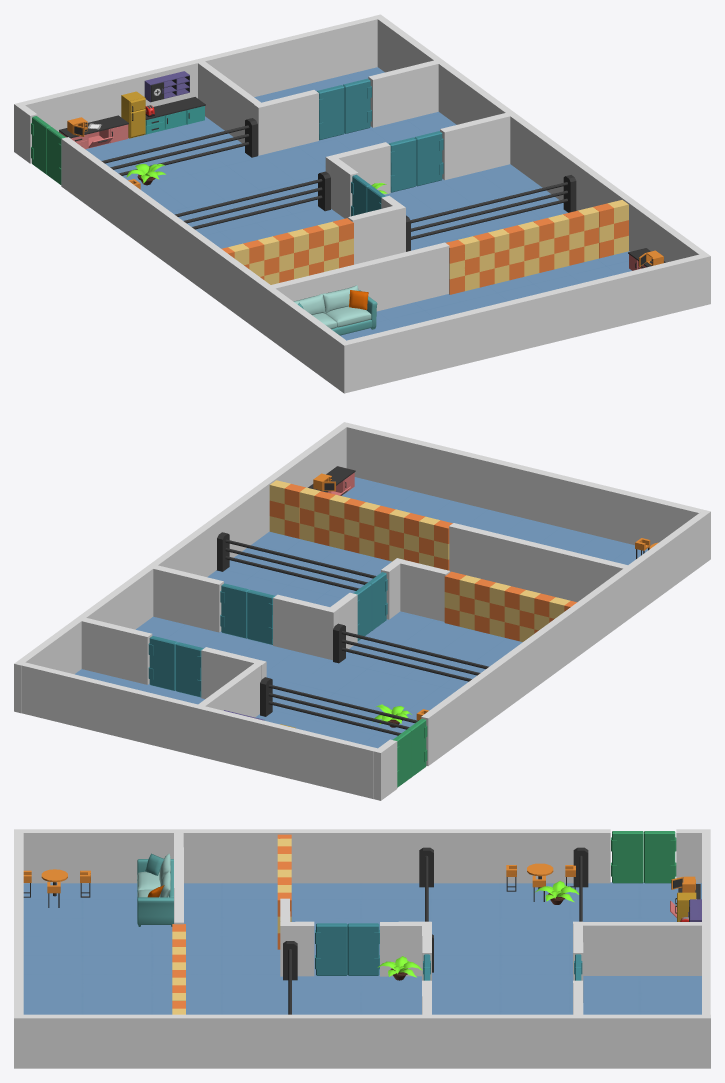
File: maps_27.fbx
The picture shows the model from 3 angles, top to bottom: view 1: azimuth 30°, elevation 25°; view 2: azimuth 150°, elevation 25°; view 3: azimuth 270°, elevation 25°; orthographic projection. The views are drawn at different scales.
Visible parts, largest first — view 1: frames_13_geo, frames_06_geo, frames_03_geo, frames_11_geo, frames_04_geo, frames_02_geo2, frames_02_geo8, frames_02_geo10, polySurface170 (×3), frames_02_geo9, polySurface171 (×2), frames_03_geo2 (+16 smaller); view 2: frames_13_geo, frames_11_geo, frames_06_geo, frames_03_geo, frames_04_geo, frames_02_geo2, frames_02_geo10, frames_02_geo8, polySurface171 (×3), polySurface170 (×3), frames_02_geo1, frames_02_geo5 (+9 smaller); view 3: frames_13_geo, frames_04_geo, frames_03_geo, frames_03_geo2, sofa_geo, frames_02_geo3, frames_06_geo, polySurface170, polySurface2, polySurface171, polySurface6, frames_11_geo (+9 smaller).
Part boxes in pixels (bbox=[...]): frames_13_geo: bbox=[86, 67, 631, 340]; frames_06_geo: bbox=[347, 254, 703, 391]; frames_03_geo: bbox=[61, 137, 351, 393]; frames_11_geo: bbox=[21, 16, 377, 131]; frames_04_geo: bbox=[374, 14, 710, 305]; frames_02_geo2: bbox=[271, 242, 449, 311]; frames_02_geo8: bbox=[440, 113, 510, 180]; frames_02_geo10: bbox=[368, 60, 438, 127]; polySurface170 (×3): bbox=[317, 85, 416, 216]; frames_02_geo9: bbox=[254, 90, 318, 155]; polySurface171 (×2): bbox=[343, 78, 443, 186]; frames_03_geo2: bbox=[198, 61, 261, 143]; frames_13_geo: bbox=[75, 477, 649, 748]; frames_11_geo: bbox=[21, 662, 377, 799]; frames_06_geo: bbox=[346, 424, 703, 548]; frames_03_geo: bbox=[421, 510, 710, 765]; frames_04_geo: bbox=[14, 422, 350, 713]; frames_02_geo2: bbox=[449, 523, 627, 602]; frames_02_geo10: bbox=[81, 618, 152, 684]; frames_02_geo8: bbox=[153, 565, 223, 632]; polySurface171 (×3): bbox=[148, 572, 387, 690]; polySurface170 (×3): bbox=[176, 583, 371, 697]; frames_02_geo1: bbox=[273, 594, 338, 660]; frames_02_geo5: bbox=[400, 560, 450, 621]; frames_13_geo: bbox=[23, 882, 701, 1014]; frames_04_geo: bbox=[14, 1014, 710, 1068]; frames_03_geo: bbox=[14, 829, 610, 883]; frames_03_geo2: bbox=[582, 922, 702, 975]; sofa_geo: bbox=[137, 853, 173, 926]; frames_02_geo3: bbox=[380, 921, 422, 976]; frames_06_geo: bbox=[14, 833, 23, 1014]; polySurface170: bbox=[347, 923, 379, 975]; polySurface2: bbox=[611, 831, 643, 883]; polySurface171: bbox=[315, 923, 347, 975]; polySurface6: bbox=[644, 831, 676, 883]; frames_11_geo: bbox=[702, 833, 710, 1014].
Bounding box in the file's own units: 71.19 × 9.21 × 111.
Materials: 12 (12 with a texture image).
